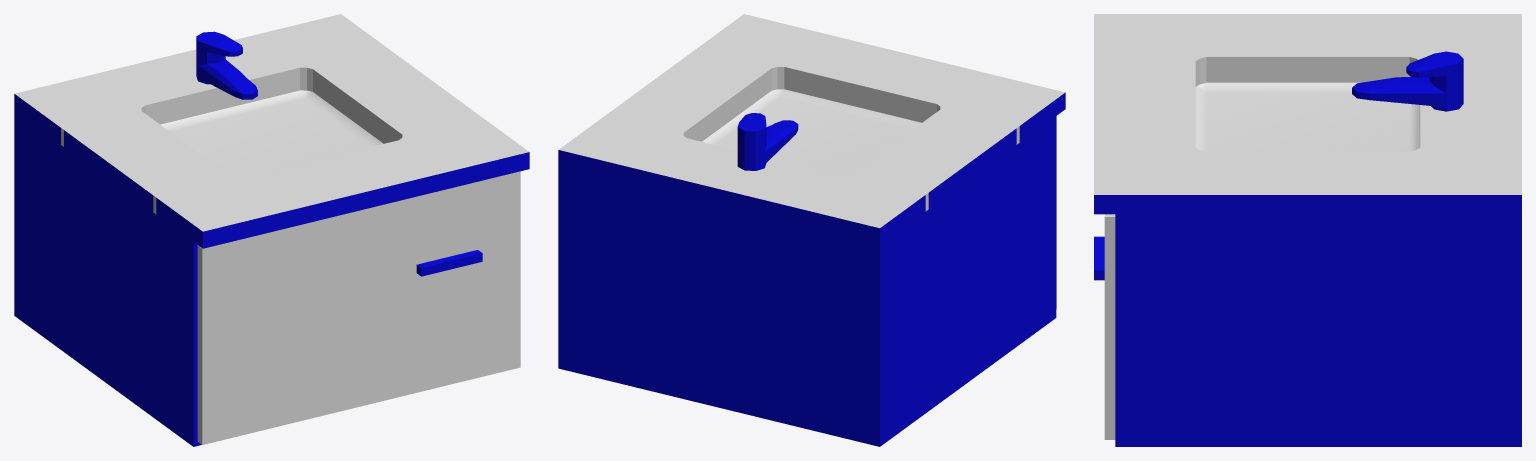
The model's file is c_sink.fbx.
3 renders of one model, left to right at view 1: azimuth 30°, elevation 25°; view 2: azimuth 150°, elevation 25°; view 3: azimuth 270°, elevation 25°, orthographic. The views are drawn at different scales.
Parts seen in each view (by area): view 1: pCube72, polySurface36, pCube84; view 2: pCube84, pCube72; view 3: pCube84, pCube72, polySurface36.
Part boxes in pixels (x1,y1,x2,y2): pCube72: (14, 14, 529, 248); polySurface36: (197, 171, 520, 444); pCube84: (14, 111, 201, 446); pCube84: (558, 116, 1056, 446); pCube72: (558, 14, 1065, 244); pCube84: (1115, 214, 1521, 446); pCube72: (1094, 14, 1521, 214); polySurface36: (1094, 214, 1115, 439).
Size of the model in its own units: 200 by 154 by 200.
